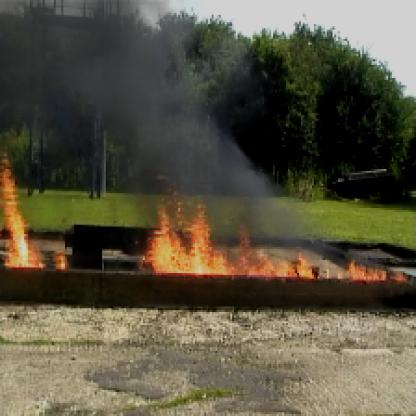Fire: (147, 195, 323, 273), (2, 156, 72, 271), (346, 256, 414, 286)
Smoke: (2, 2, 193, 145)
